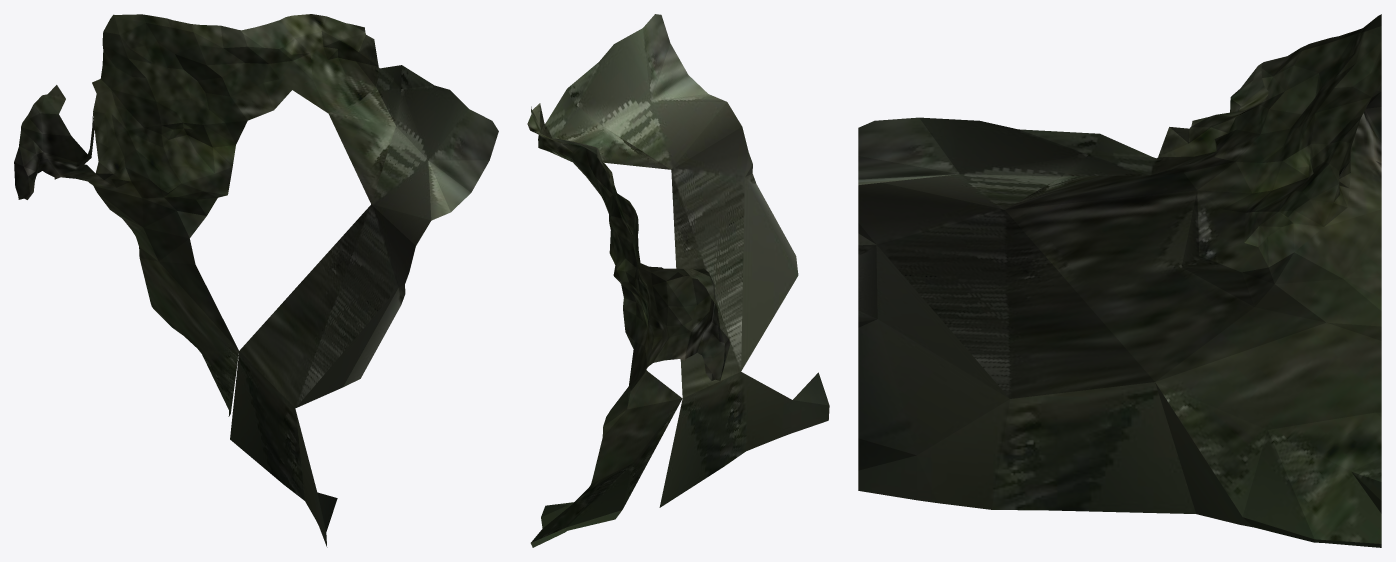
3 views of the same model, side by side, from view 1: azimuth 30°, elevation 25°; view 2: azimuth 150°, elevation 25°; view 3: azimuth 270°, elevation 25° (orthographic). The views are drawn at different scales.
Size of the model in its own units: 1.27 by 1.67 by 1.67.
3 materials, 3 textured.
